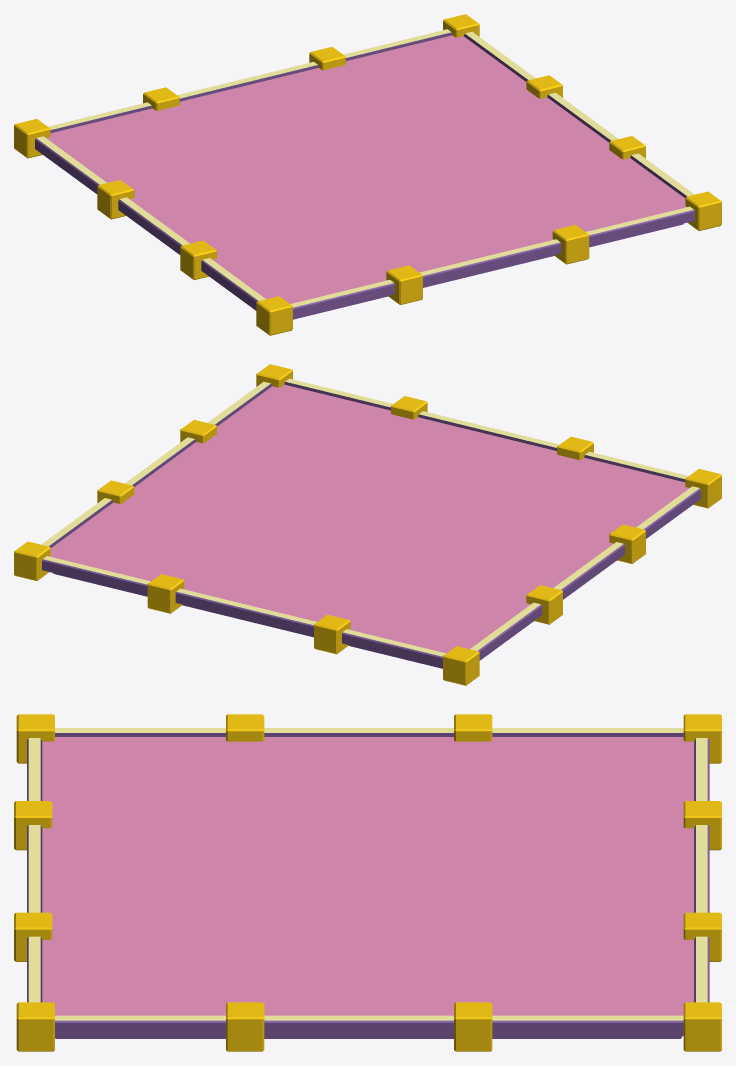
Rendered from WaterTank.fbx.
The picture shows the model from 3 angles, top to bottom: view 1: azimuth 30°, elevation 25°; view 2: azimuth 150°, elevation 25°; view 3: azimuth 270°, elevation 25°; orthographic projection. The views are drawn at different scales.
Visible parts, largest first — view 1: WaterTank; view 2: WaterTank; view 3: WaterTank.
Part boxes in pixels (<box>): WaterTank: <box>14,14,721,335</box>; WaterTank: <box>14,364,721,685</box>; WaterTank: <box>14,714,721,1051</box>.
Size of the model in its own units: 8214 by 482 by 8077.
